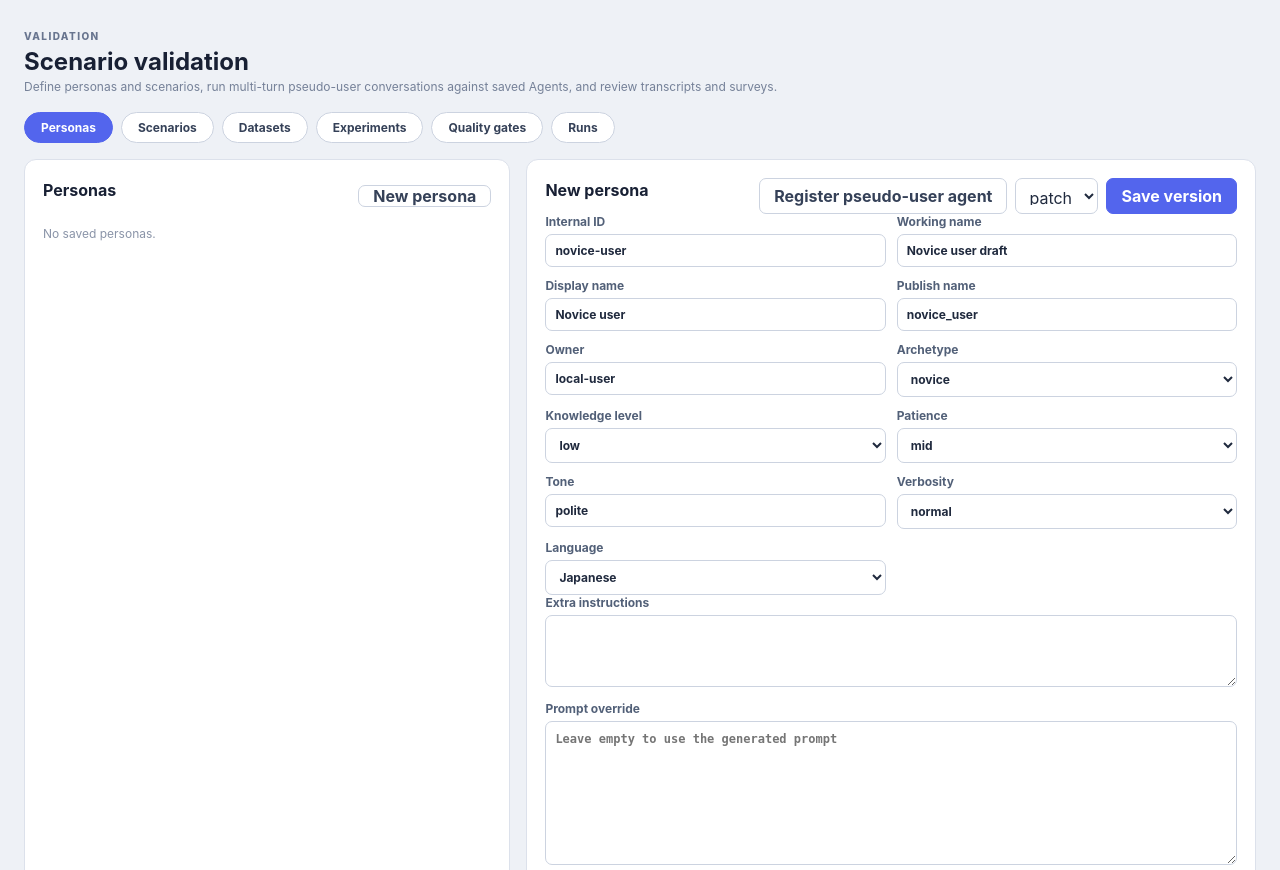
it: ValidationPage › Personas/Scenarios/Datasets/Experiments/Quality/Runsの6タブを切り替えて表示する
The width and height of the screenshot is (1280, 870).
Expected: the text "No saved personas." is shown, 43,226 -> 156,241
Click the tab "Scenarios" at x=167, y=128, box 121,112 -> 214,143
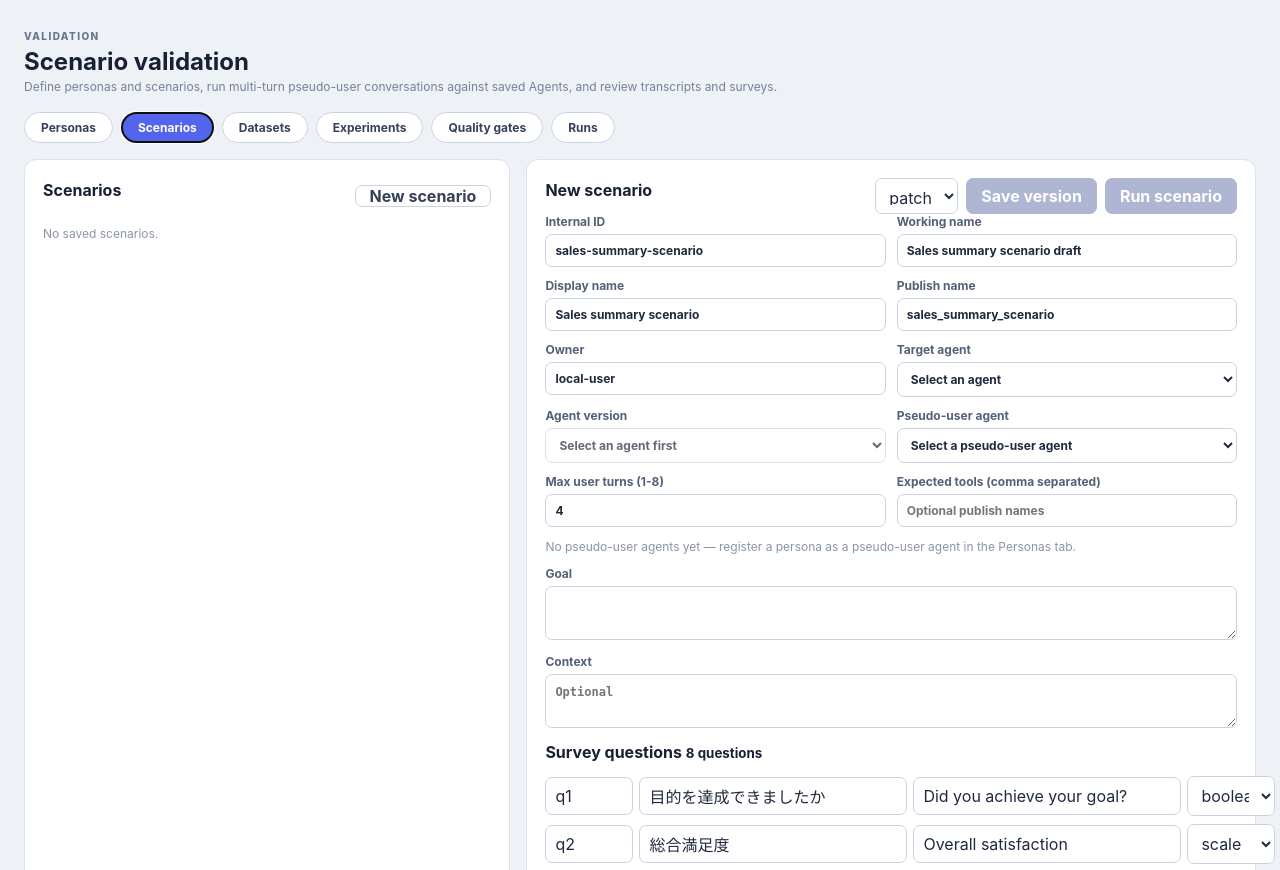
Expected: the text "No saved scenarios." is shown, 43,226 -> 158,241
Click the tab "Datasets" at x=265, y=128, box 222,112 -> 308,143
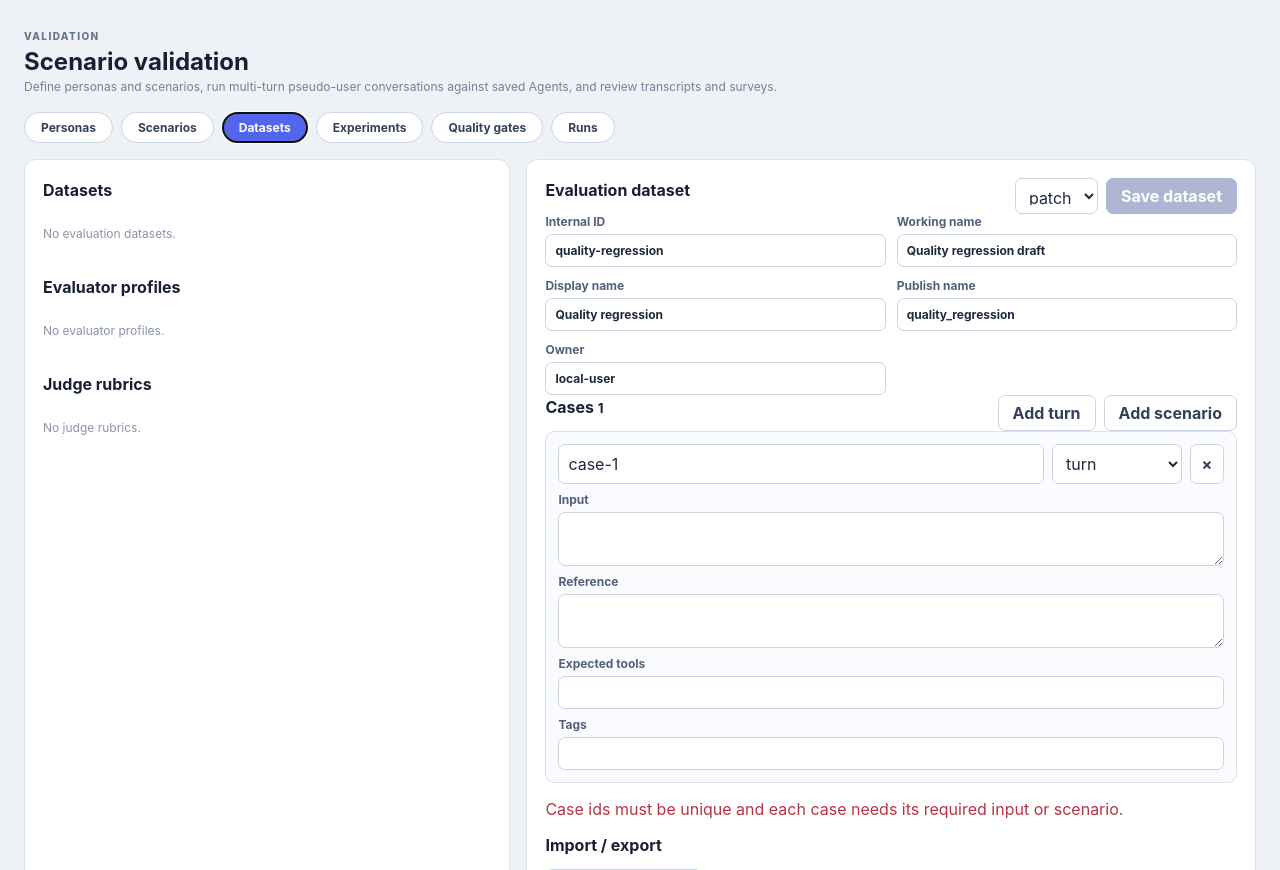
Expected: the text "No evaluation datasets." is shown, 43,226 -> 176,241
Click the tab "Experiments" at x=370, y=128, box 316,112 -> 424,143
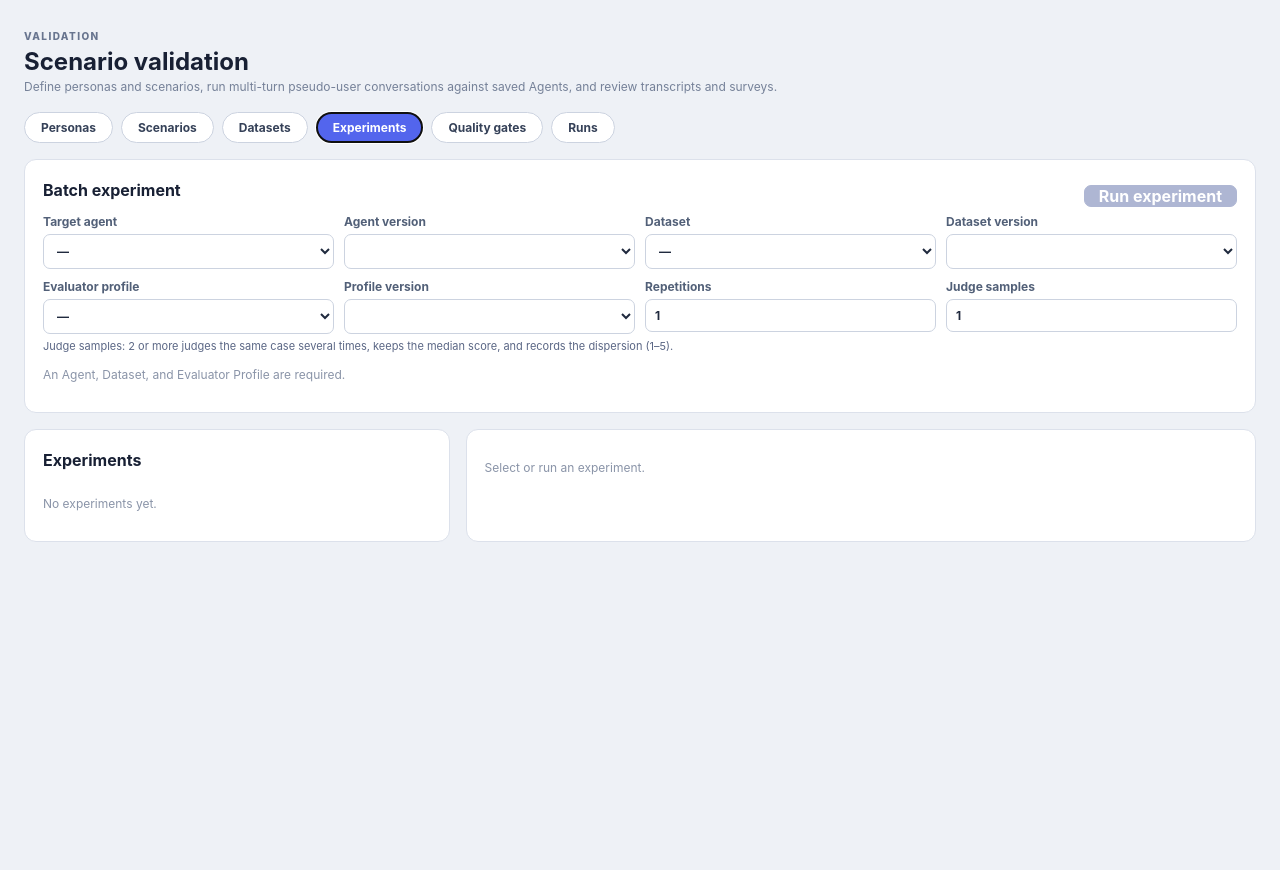
Expected: the text "No experiments yet." is shown, 43,496 -> 157,510
Click the tab "Quality gates" at x=487, y=128, box 432,112 -> 543,143
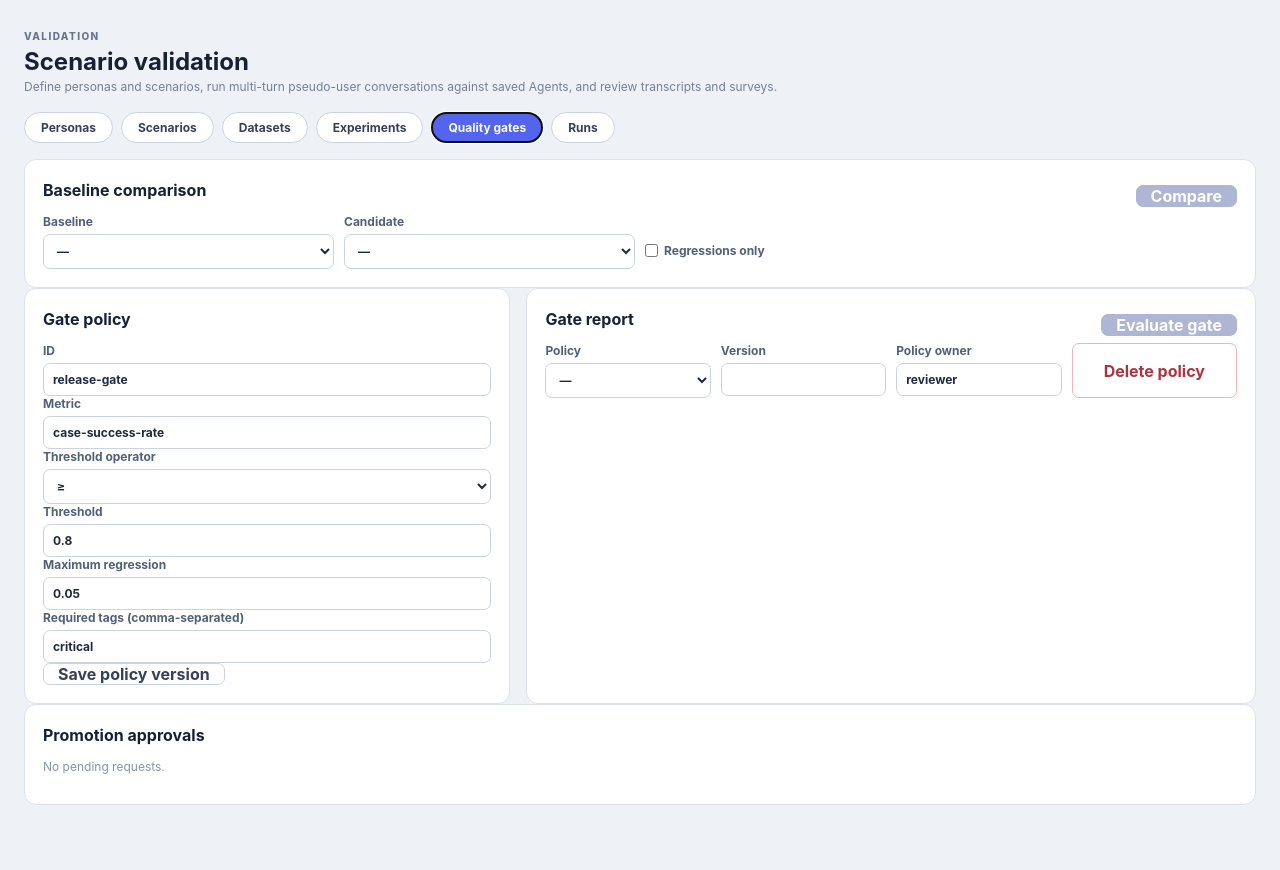
Expected: the text "No pending requests." is shown, 43,759 -> 165,774
Click the tab "Runs" at x=583, y=128, box 551,112 -> 615,143
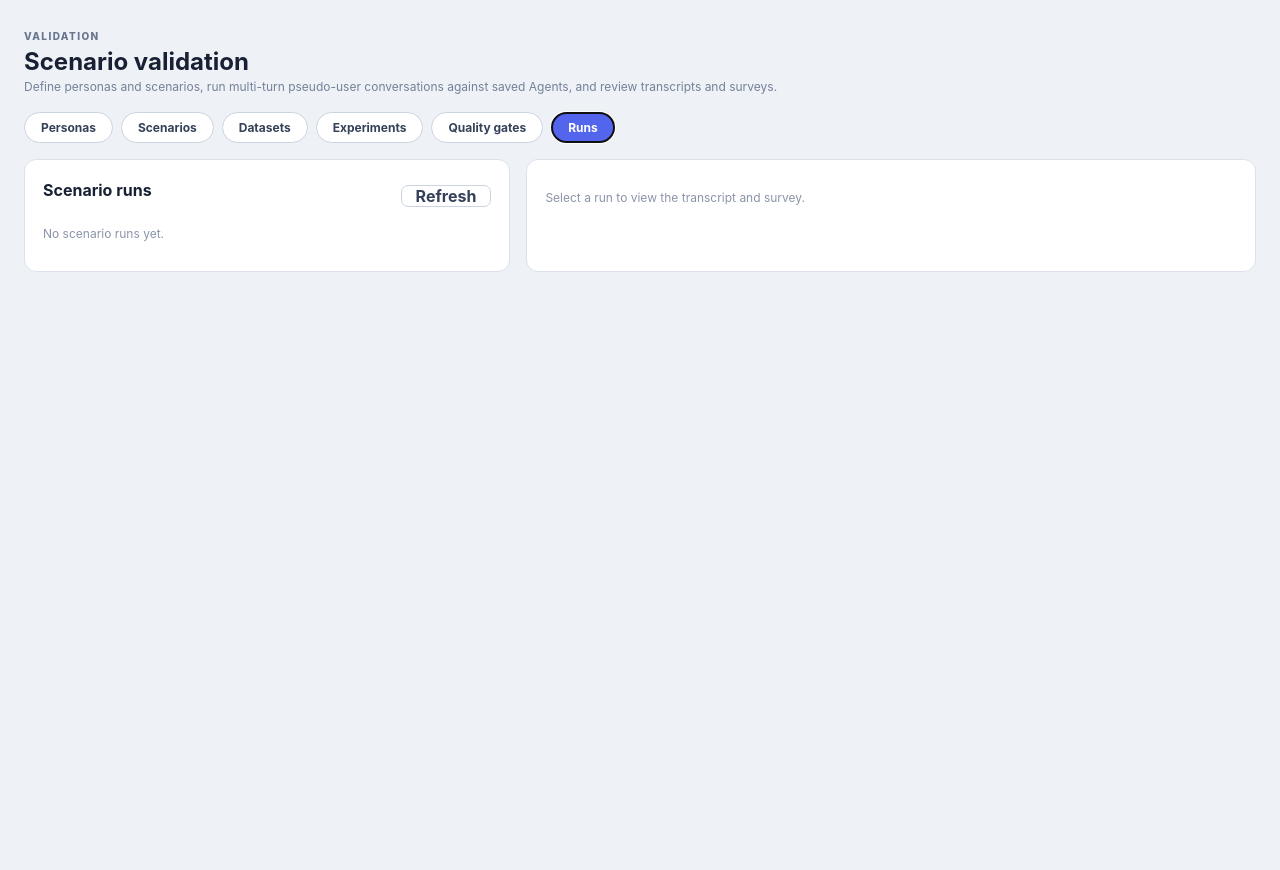
Expected: the text "No scenario runs yet." is shown, 43,226 -> 164,241
